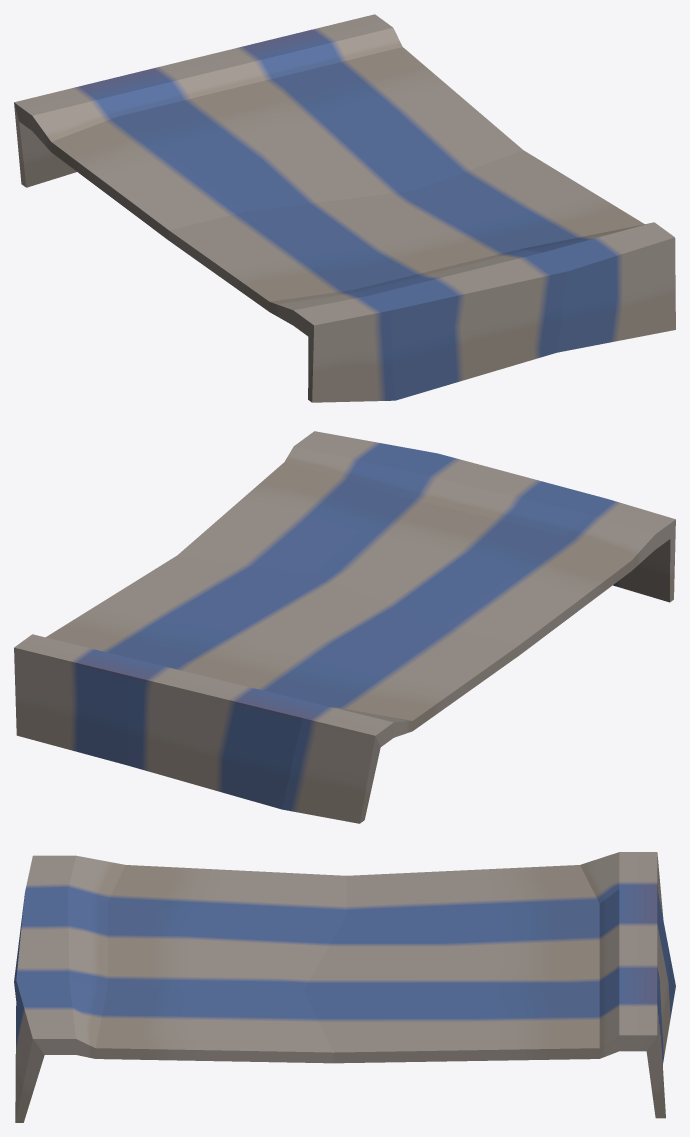
The model's file is SM_Bld_Village_ClothCover_Cloth_03.glb.
3 renders of one model, top to bottom at view 1: azimuth 30°, elevation 25°; view 2: azimuth 150°, elevation 25°; view 3: azimuth 270°, elevation 25°, orthographic. The views are drawn at different scales.
Parts seen in each view (by area): view 1: SM_Bld_Village_ClothCover_Cloth_03; view 2: SM_Bld_Village_ClothCover_Cloth_03; view 3: SM_Bld_Village_ClothCover_Cloth_03.
Part boxes in pixels (box(x1,y1,x2,y2)): SM_Bld_Village_ClothCover_Cloth_03: box(14, 14, 675, 402); SM_Bld_Village_ClothCover_Cloth_03: box(14, 431, 675, 823); SM_Bld_Village_ClothCover_Cloth_03: box(14, 852, 675, 1122).
Size of the model in its own units: 1.77 by 0.4202 by 2.7.
Materials: 1 (1 with a texture image).
